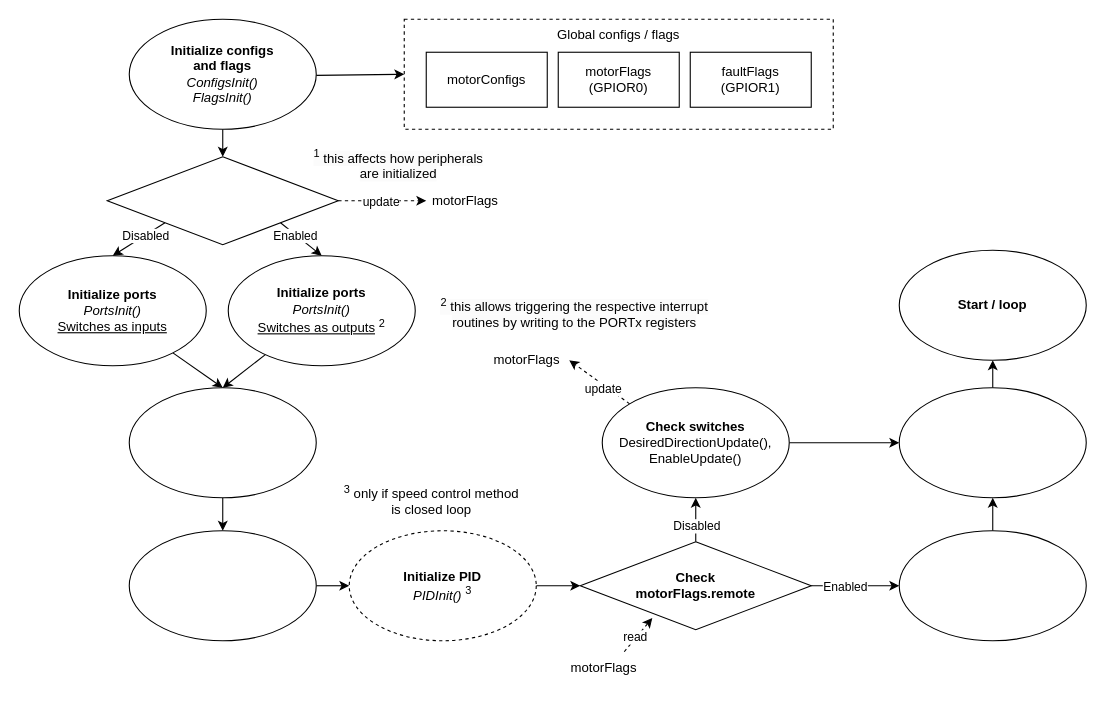
Image size: 1106x704. Some labels were removed from this diagram. The centre of each missing label's shape, as x and y in pixels:
"Check if remote enable RemoteUpdate() 1" belongs at (222,200).
"Initialize ADC, self-test and loop until BRef detected ADCInit()" belongs at (222,442).
"Initialize interupts and take over PinChangeIntInit(), <code>, sei()" belongs at (992,442).
"Initialize remaining peripherals PLLInit(), T imersInit()" belongs at (222,585).
"Initialize Serial and SCPI Serial.begin(), SCPI_Init()" belongs at (992,585).
